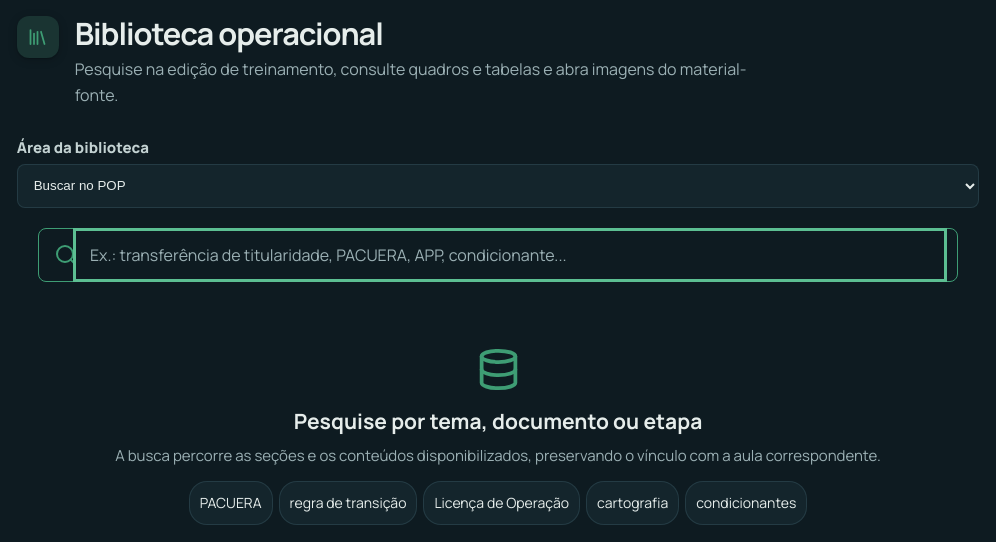
Test: biblioteca operacional em telas estreitas › troca as sete abas por um seletor rotulado no celular
Expected: the label "Área da biblioteca" is shown, [17,137,149,158]
Expected: the text "Pesquise na edição de treinamento, consulte quadros e tabelas e abra imagens do material-fonte." is shown, [75,58,746,106]
Select "Quadros e tabelas" in the dropdown with id "library-area-select". click: (498, 186)
box: [17,164,979,208]
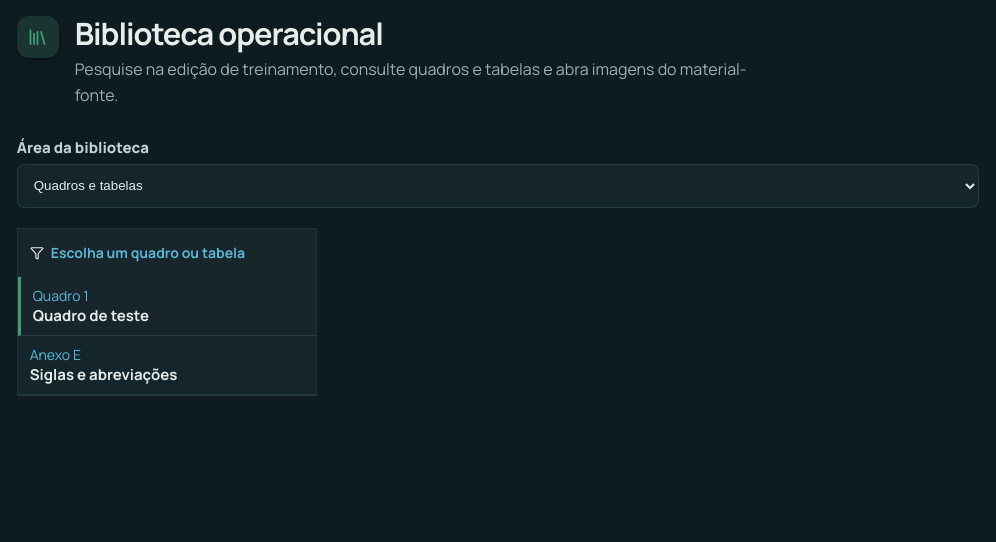
Now the text "Escolha um quadro ou tabela" is shown, box [51,243,245,262]
